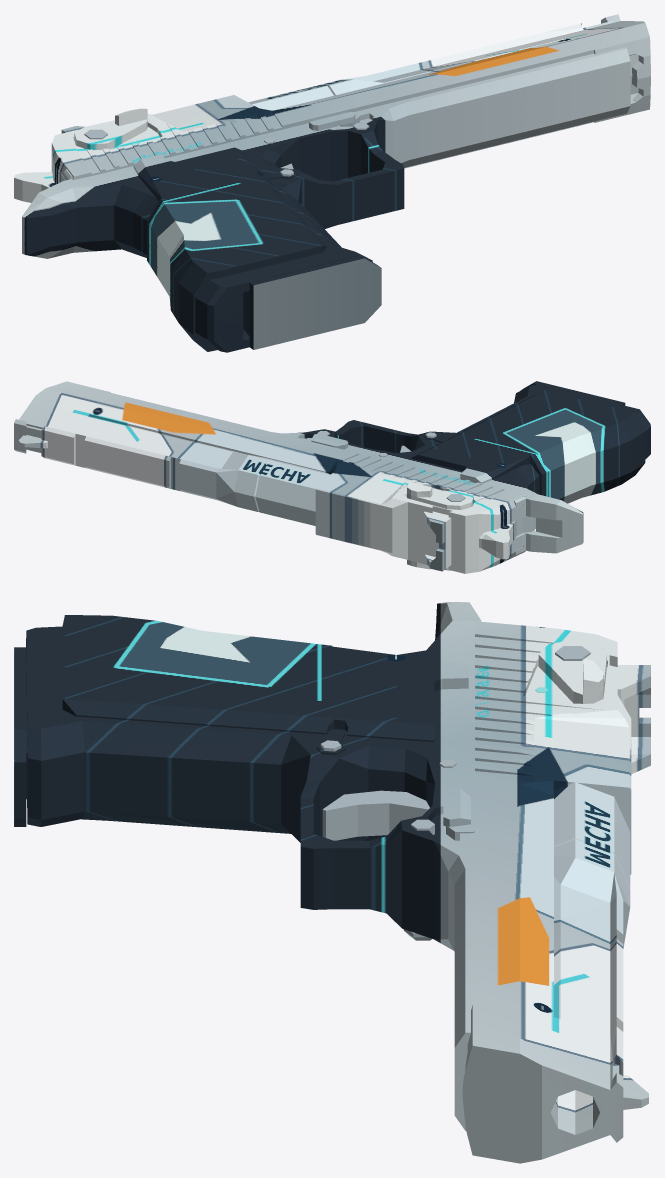
File: desert_eagle_mecha.glb
The picture shows the model from 3 angles, top to bottom: view 1: azimuth 30°, elevation 25°; view 2: azimuth 150°, elevation 25°; view 3: azimuth 270°, elevation 25°; orthographic projection. The views are drawn at different scales.
Visible parts, largest first — view 1: Object_13, Object_14, Object_22, Object_17, Object_12; view 2: Object_13, Object_22, Object_14, Object_12, Object_17; view 3: Object_13, Object_14, Object_22, Object_17, Object_15, Object_12.
Boxes of the visible parts, bbox=[...] form: Object_13: bbox=[22, 14, 650, 352]; Object_14: bbox=[61, 126, 327, 351]; Object_22: bbox=[51, 38, 593, 183]; Object_17: bbox=[14, 108, 381, 349]; Object_12: bbox=[63, 86, 333, 179]; Object_13: bbox=[14, 381, 650, 556]; Object_22: bbox=[89, 392, 526, 573]; Object_14: bbox=[18, 390, 645, 571]; Object_12: bbox=[255, 460, 525, 525]; Object_17: bbox=[305, 381, 625, 570]; Object_13: bbox=[26, 602, 630, 1163]; Object_14: bbox=[62, 615, 650, 1109]; Object_22: bbox=[475, 621, 631, 1016]; Object_17: bbox=[14, 640, 606, 840]; Object_15: bbox=[320, 740, 456, 940]; Object_12: bbox=[553, 782, 630, 887].
Bounding box in the file's own units: 270 × 40.25 × 151.
4 materials, 1 textured.
